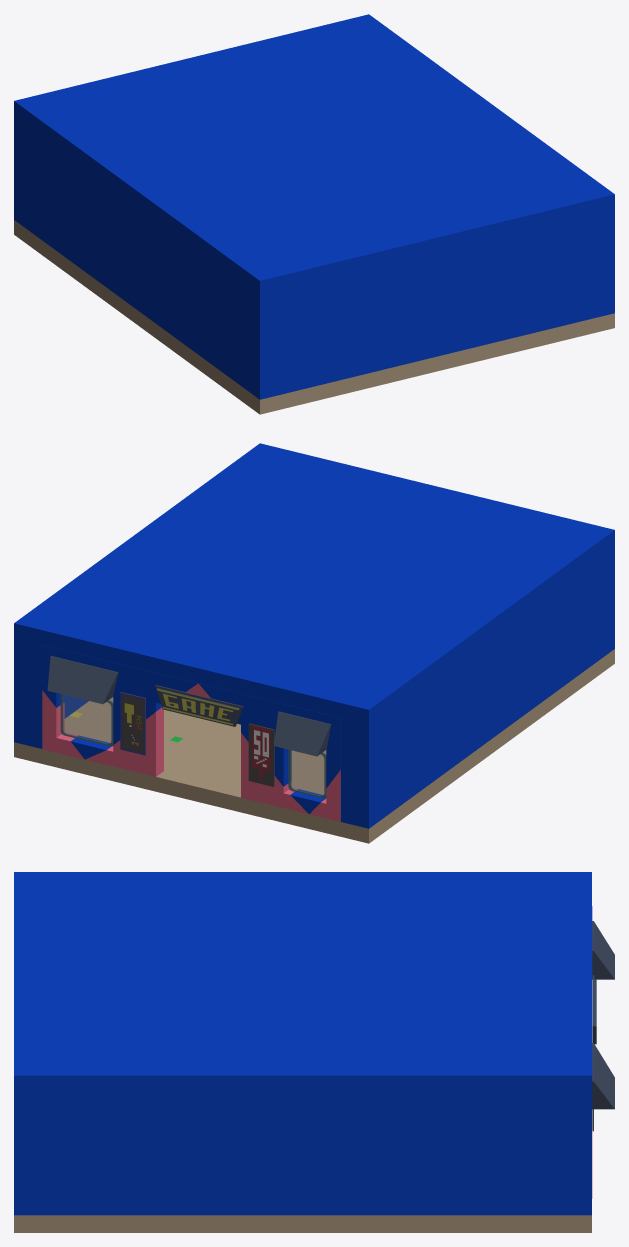
Rendered from Tienda de Videojuegos 2.fbx.
3 views of the same model, one above another, from view 1: azimuth 30°, elevation 25°; view 2: azimuth 150°, elevation 25°; view 3: azimuth 270°, elevation 25° (orthographic). The views are drawn at different scales.
Visible parts, largest first — view 1: Techo_2, Pared_21x10x1, Pared_1x10x26, Piso_2, Esquina_1x10x1, Esquina_1x10x10, Esquina_1x10x50; view 2: Techo_2, Pared_1x10x26, Piso_2, Fachada_2, Esquina_1x10x50, Esquina_1x10x49, Anti_lluvia_1, Vidrio_ventana_3, Letrero_2, Anti_lluvia_2, Esquina_1x10x1, Letrero_4 (+2 smaller); view 3: Techo_2, Pared2_1x10x26, Piso_2, Esquina_1x10x10, Esquina_1x10x49, Anti_lluvia_1, Anti_lluvia_2.
Part boxes in pixels (x1=…): Techo_2: x1=14, y1=14, x2=614, y2=295; Pared_21x10x1: x1=288, y1=216, x2=586, y2=392; Pared_1x10x26: x1=30, y1=128, x2=243, y2=387; Piso_2: x1=14, y1=220, x2=614, y2=414; Esquina_1x10x1: x1=243, y1=284, x2=288, y2=399; Esquina_1x10x10: x1=586, y1=209, x2=614, y2=319; Esquina_1x10x50: x1=14, y1=116, x2=30, y2=231; Techo_2: x1=14, y1=443, x2=614, y2=724; Pared_1x10x26: x1=385, y1=557, x2=598, y2=816; Piso_2: x1=14, y1=649, x2=614, y2=843; Fachada_2: x1=42, y1=645, x2=340, y2=821; Esquina_1x10x50: x1=340, y1=713, x2=385, y2=828; Esquina_1x10x49: x1=14, y1=638, x2=42, y2=748; Anti_lluvia_1: x1=47, y1=656, x2=118, y2=704; Vidrio_ventana_3: x1=63, y1=695, x2=112, y2=746; Letrero_2: x1=155, y1=685, x2=243, y2=726; Anti_lluvia_2: x1=274, y1=711, x2=331, y2=756; Esquina_1x10x1: x1=598, y1=545, x2=614, y2=660; Letrero_4: x1=248, y1=723, x2=274, y2=786; Techo_2: x1=14, y1=872, x2=591, y2=1093; Pared2_1x10x26: x1=52, y1=1093, x2=553, y2=1215; Piso_2: x1=14, y1=1215, x2=591, y2=1232; Esquina_1x10x10: x1=14, y1=1093, x2=52, y2=1215; Esquina_1x10x49: x1=553, y1=1093, x2=591, y2=1215; Anti_lluvia_1: x1=592, y1=1043, x2=614, y2=1109; Anti_lluvia_2: x1=592, y1=921, x2=614, y2=979.
Bounding box in the file's own units: 25 × 9 × 31.19.
